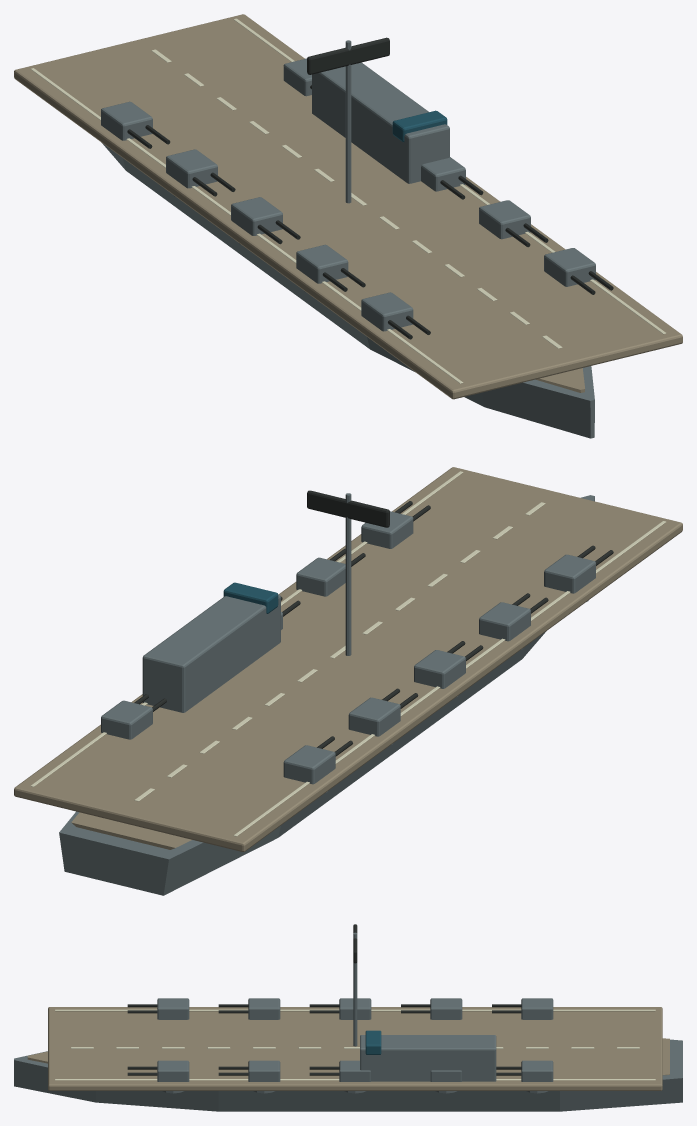
The model's file is carrier.glb.
3 views of the same model, one above another, from view 1: azimuth 30°, elevation 25°; view 2: azimuth 150°, elevation 25°; view 3: azimuth 270°, elevation 25° (orthographic). The views are drawn at different scales.
Visible parts, largest first — view 1: carrier_airframe; view 2: carrier_airframe; view 3: carrier_airframe.
Boxes of the visible parts, left/top/right/bottom form: carrier_airframe: left=14, top=14, right=682, bottom=438; carrier_airframe: left=14, top=467, right=682, bottom=895; carrier_airframe: left=14, top=924, right=682, bottom=1111.
Size of the model in its own units: 4.1 by 3.69 by 14.7.
